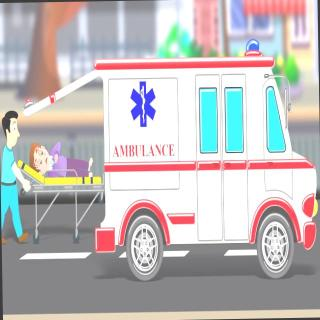Ambulance: (87, 13, 320, 300)
